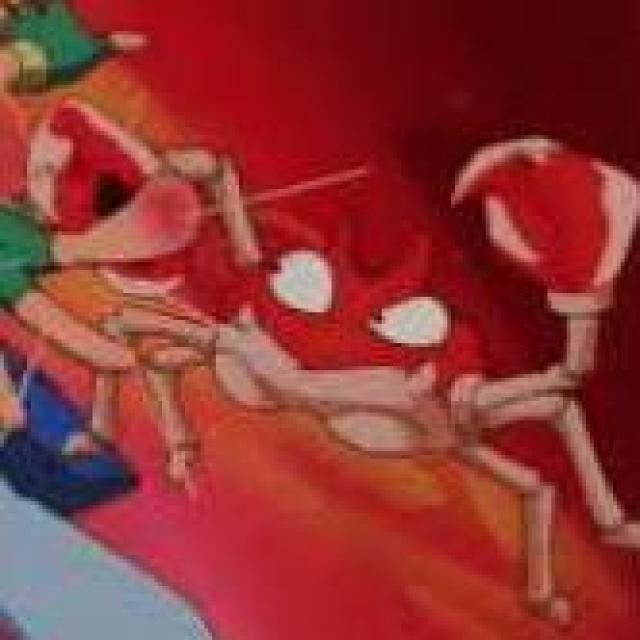Krabby: (48, 120, 630, 554)
